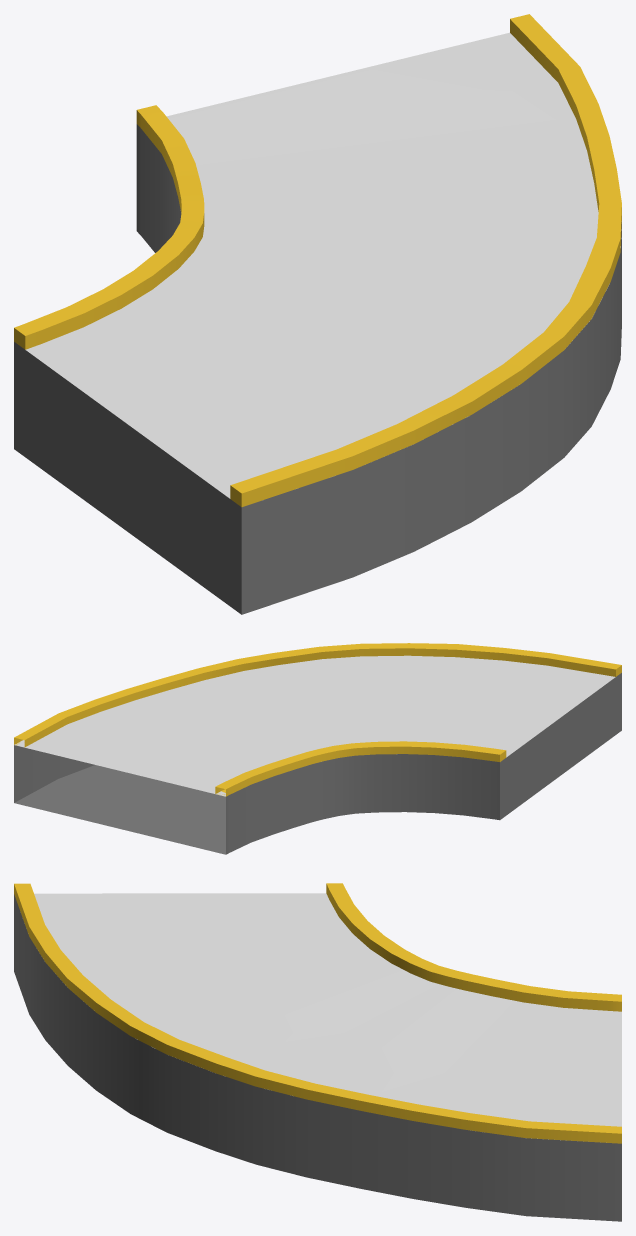
File: plat_right_pivot.fbx
The picture shows the model from 3 angles, top to bottom: view 1: azimuth 30°, elevation 25°; view 2: azimuth 150°, elevation 25°; view 3: azimuth 270°, elevation 25°; orthographic projection. The views are drawn at different scales.
Visible parts, largest first — view 1: Platform_Right; view 2: Platform_Right; view 3: Platform_Right.
Part boxes in pixels (box(x1,y1,x2,y2)): Platform_Right: box(14, 14, 621, 614); Platform_Right: box(14, 643, 621, 854); Platform_Right: box(14, 883, 621, 1221).
Bounding box in the file's own units: 2149 × 357 × 2205.
